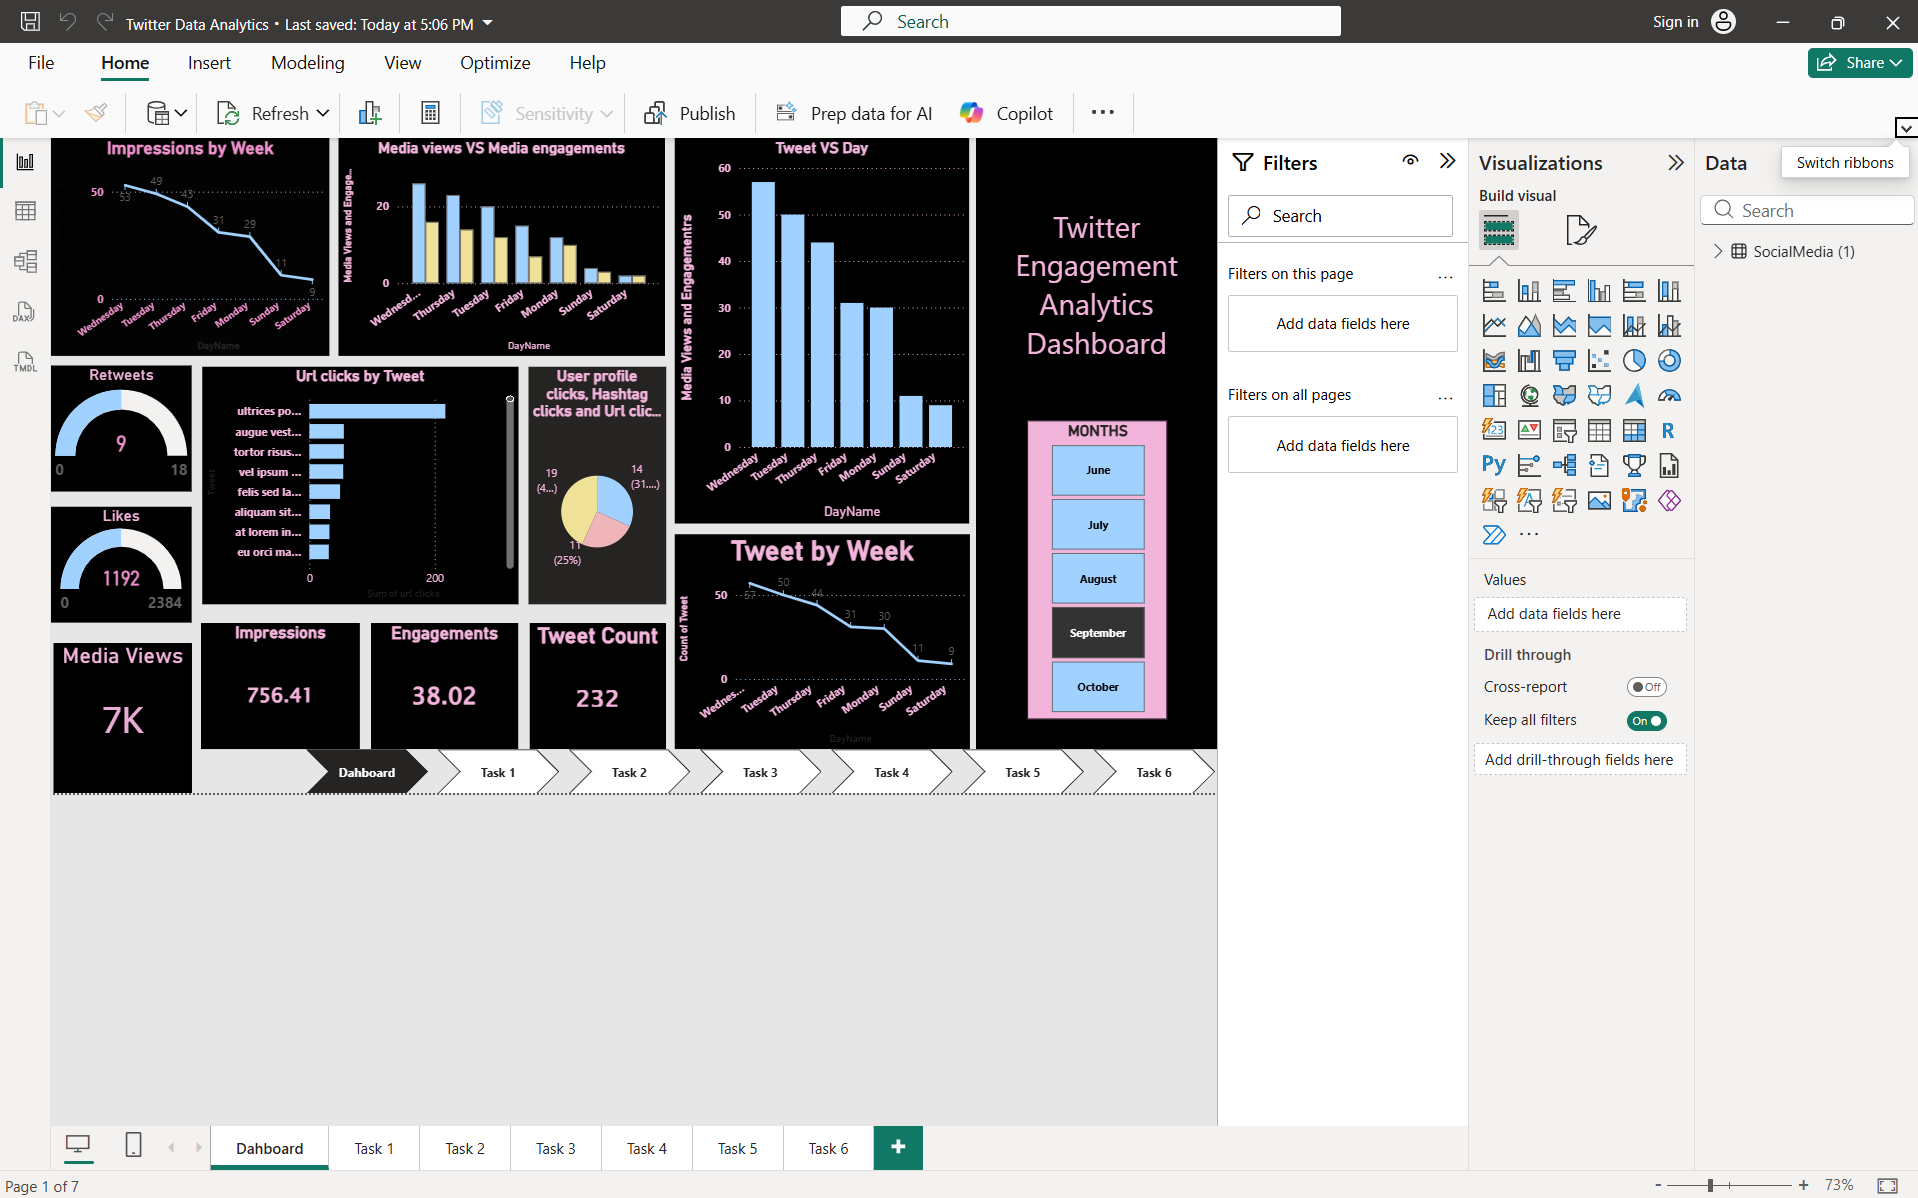

Layout of this report page (visuals, bound fields, positions):
{"tool":"powerbi","page":{"name":"Dahboard","canvas":[1280,720],"ordinal":0},"visuals":[{"type":"textbox","box":[1015.4,0,264.8,671],"z":0},{"type":"cardVisual","title":"Media Views","fields":{"Data":["Sum(SocialMedia (1).media views)"]},"box":[2.7,554.4,152.3,166],"z":1000},{"type":"cardVisual","title":"Impressions","fields":{"Data":["Avg(SocialMedia (1).impressions)"]},"box":[164.7,532.4,174.3,138.6],"z":2000},{"type":"cardVisual","title":"Engagements","fields":{"Data":["Avg(SocialMedia (1).engagements)"]},"box":[351.3,532.4,161.9,138.6],"z":3000},{"type":"cardVisual","title":"Tweet Count","fields":{"Data":["Count(SocialMedia (1).Tweet)"]},"box":[525.6,532.4,149.6,138.6],"z":4000},{"type":"gauge","title":"Likes","fields":{"Y":["Sum(SocialMedia (1).likes)"]},"box":[0,404.8,154.2,127.2],"z":5000},{"type":"gauge","title":"Retweets","fields":{"Y":["Max(SocialMedia (1).retweets)"]},"box":[0,250,154.7,138.4],"z":6000},{"type":"slicer","title":"MONTHS","fields":{"Values":["SocialMedia (1).Month Name"]},"box":[1071.7,310.1,153.7,328],"z":7000},{"type":"lineChart","title":" Tweet by Week","fields":{"Category":["SocialMedia (1).DayName"],"Y":["CountNonNull(SocialMedia (1).Tweet)"]},"box":[684.7,435,323.8,236],"z":8000},{"type":"lineChart","title":"Impressions by Week","fields":{"Category":["SocialMedia (1).DayName"],"Y":["Count(SocialMedia (1).impressions)"]},"box":[0,0,305.8,239.5],"z":9000},{"type":"clusteredBarChart","title":"Url clicks by Tweet","fields":{"Category":["SocialMedia (1).Tweet"],"Y":["Sum(SocialMedia (1).url clicks)"]},"box":[166,251.1,347.2,260.7],"z":10000},{"type":"pieChart","title":" User profile clicks, Hashtag clicks and Url clicks","fields":{"Y":["Count(SocialMedia (1).user profile clicks)","Count(SocialMedia (1).hashtag clicks)","Count(SocialMedia (1).url clicks)"]},"box":[524.2,251.1,150.9,260.7],"z":11000},{"type":"clusteredColumnChart","title":"Media views VS Media engagements ","fields":{"Category":["SocialMedia (1).DayName"],"Y":["Count(SocialMedia (1).media views)","Count(SocialMedia (1).media engagements)"]},"box":[316.3,0,358.1,239.5],"z":12000},{"type":"clusteredColumnChart","title":"Tweet VS Day","fields":{"Y":["CountNonNull(SocialMedia (1).Tweet)"],"Category":["SocialMedia (1).DayName"]},"box":[684.9,0,323.3,423.3],"z":13000},{"type":"pageNavigator","box":[279.9,671,1000.3,49.4],"z":14000}]}

Visuals, with their boxes on the page's 1280x720 design canvas (x1, y1, x2, y2). These are canvas units, not pixel positions in the 1918x1198 screenshot, which may show the page scaled, cropped or inside an application window:
textbox: [1015,0,1280,671]
"Media Views" cardVisual: [3,554,155,720]
"Impressions" cardVisual: [165,532,339,671]
"Engagements" cardVisual: [351,532,513,671]
"Tweet Count" cardVisual: [526,532,675,671]
"Likes" gauge: [0,405,154,532]
"Retweets" gauge: [0,250,155,388]
"MONTHS" slicer: [1072,310,1225,638]
" Tweet by Week" lineChart: [685,435,1008,671]
"Impressions by Week" lineChart: [0,0,306,240]
"Url clicks by Tweet" clusteredBarChart: [166,251,513,512]
" User profile clicks, Hashtag clicks and Url clicks" pieChart: [524,251,675,512]
"Media views VS Media engagements " clusteredColumnChart: [316,0,674,240]
"Tweet VS Day" clusteredColumnChart: [685,0,1008,423]
pageNavigator: [280,671,1280,720]
